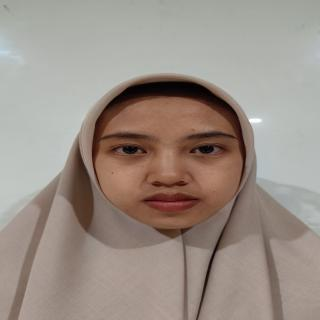Netral: (77, 81, 274, 246)
